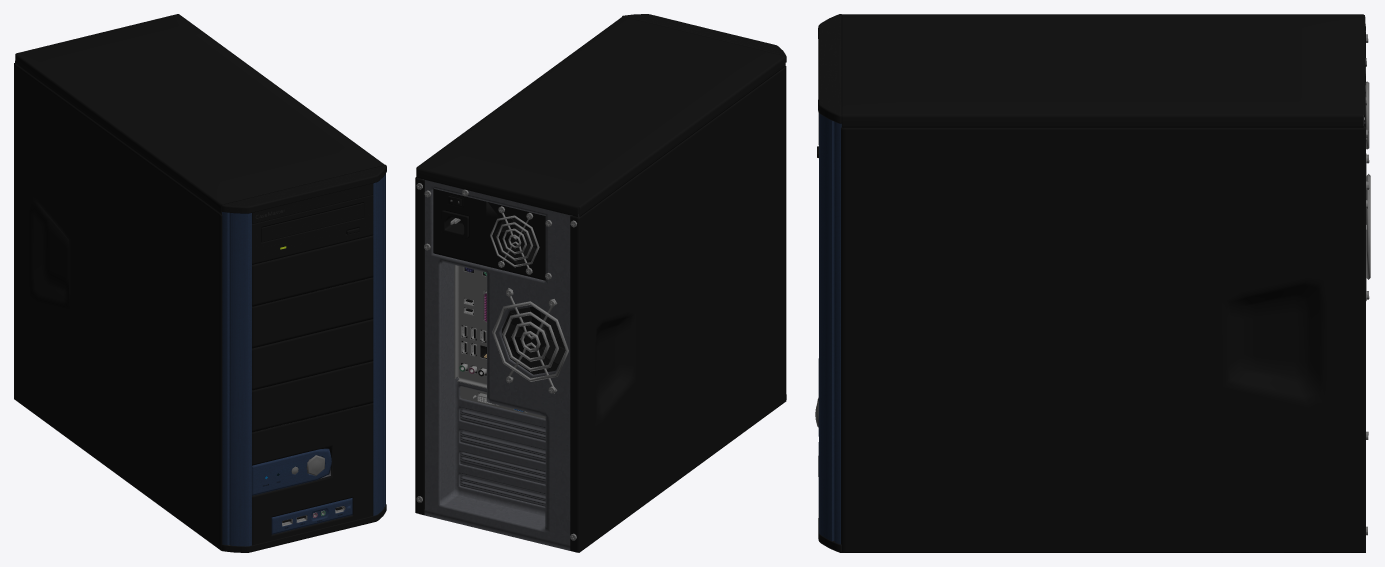
The model's file is pc_case.obj.
The picture shows the model from 3 angles, left to right: view 1: azimuth 30°, elevation 25°; view 2: azimuth 150°, elevation 25°; view 3: azimuth 270°, elevation 25°; orthographic projection. The views are drawn at different scales.
Visible parts, largest first — view 1: Model__Case; view 2: Model__Case; view 3: Model__Case.
Part boxes in pixels (x1,y1,x2,y2): Model__Case: (14, 14, 386, 552); Model__Case: (415, 14, 786, 552); Model__Case: (815, 14, 1370, 552).
Size of what is drawn, in the model's own units: 115 by 235 by 265.
